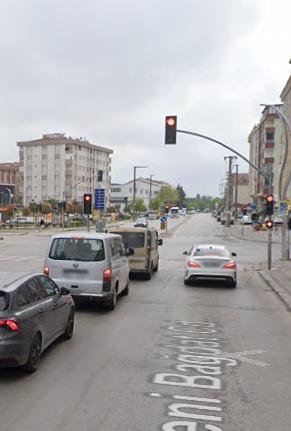redlight: (165, 115, 176, 145), (266, 194, 274, 217), (84, 194, 91, 213)
